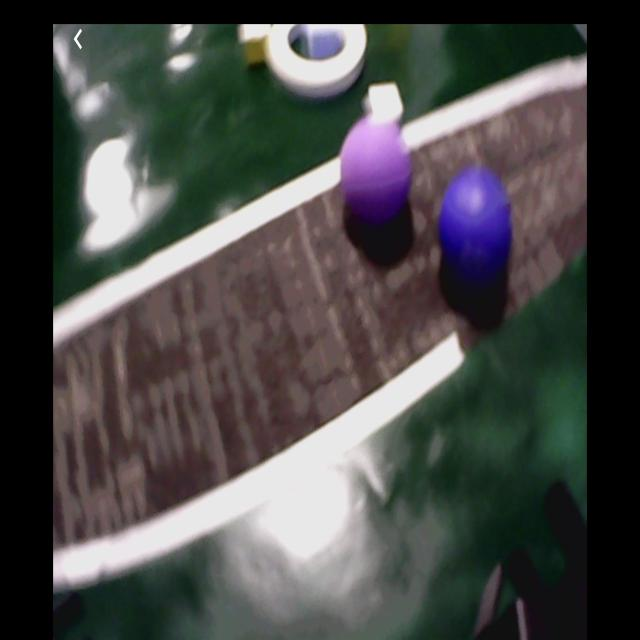ball: (440, 173, 515, 277), (343, 122, 412, 222)
